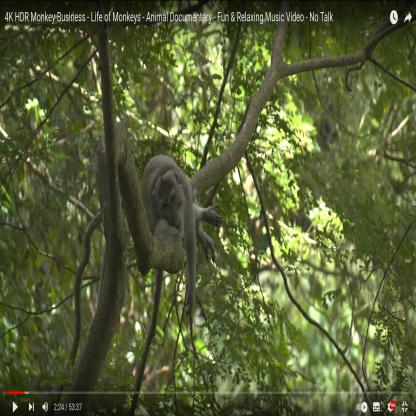monkey: (138, 152, 224, 316)
